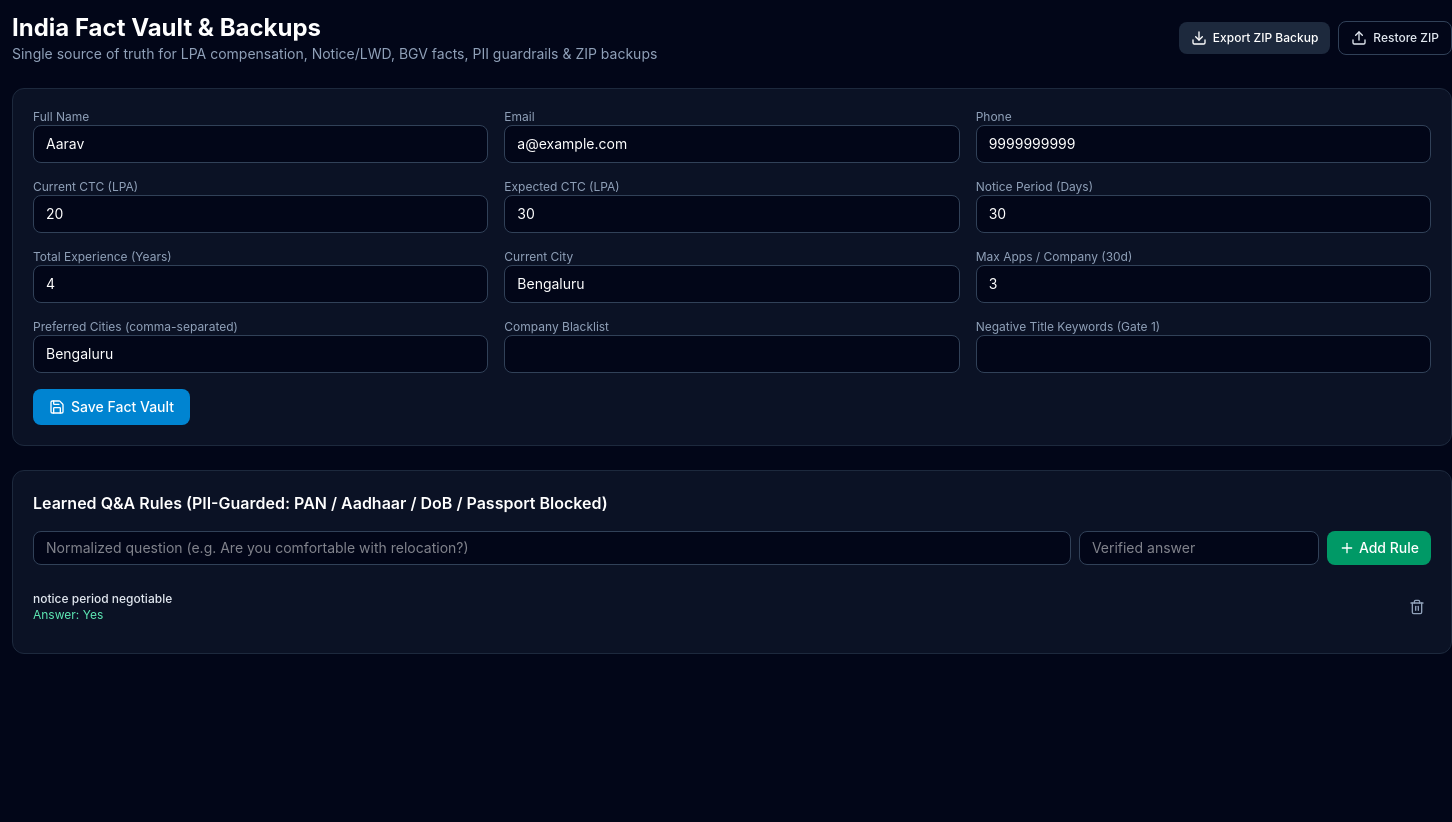
Test: Comprehensive Frontend Pages & Drawer Tests › FactVaultPage surfaces PII rejection banner and deletes Q&A rules cleanly
Later steps or results of the test are not shown.
Expected: the text "notice period negotiable" is shown, [33,591,172,607]
Type "PAN Card Number" into the field with placeholder "Normalized question".
click(552, 548); type("PAN Card Number")  # box [33,531,1071,565]
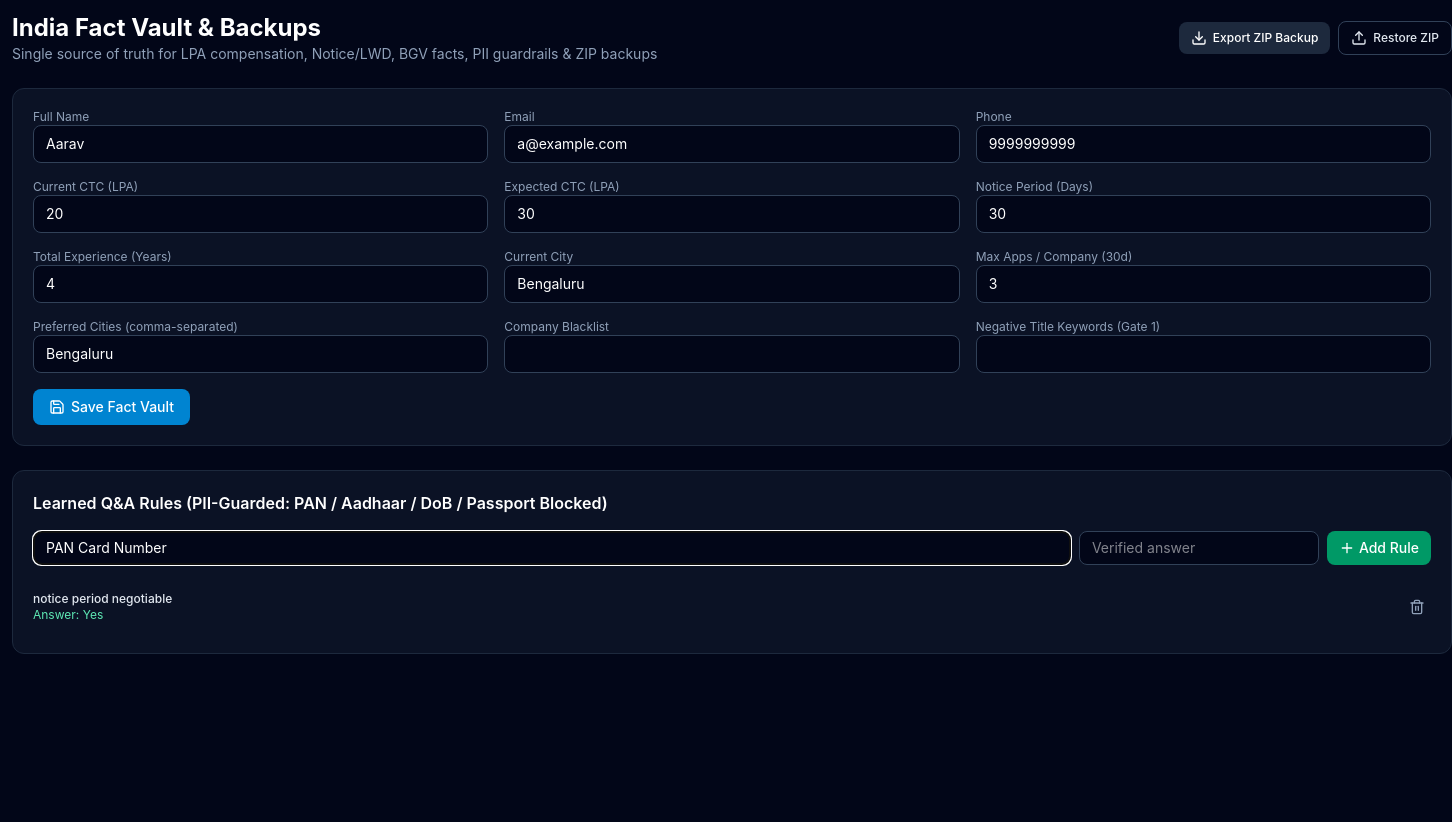
Type "ABCDE1234F" into the field with placeholder "Verified answer".
click(1199, 548); type("ABCDE1234F")  # box [1079,531,1319,565]
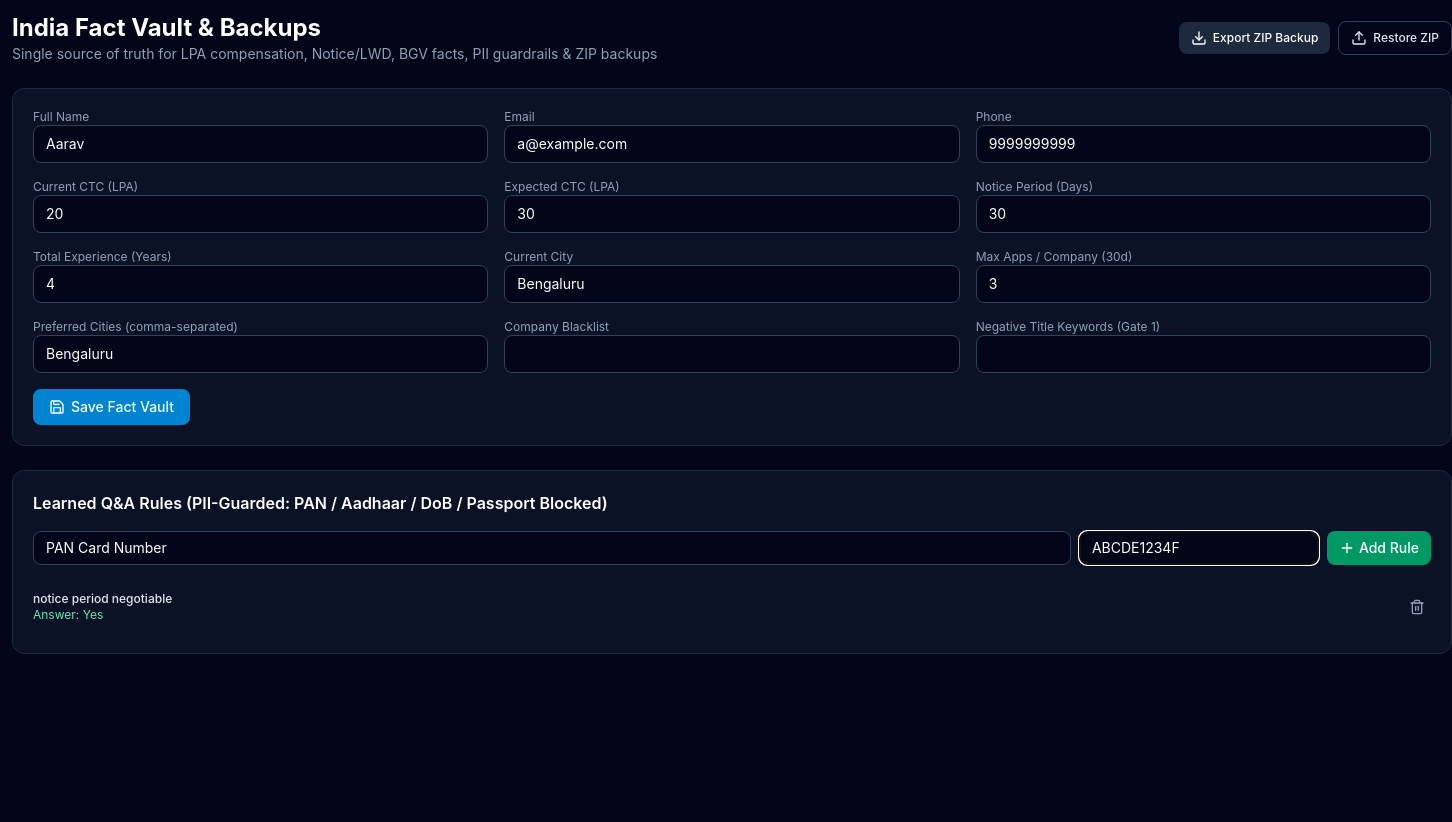
Click the button "Add Rule".
click(1379, 548)  # box [1327,531,1431,565]
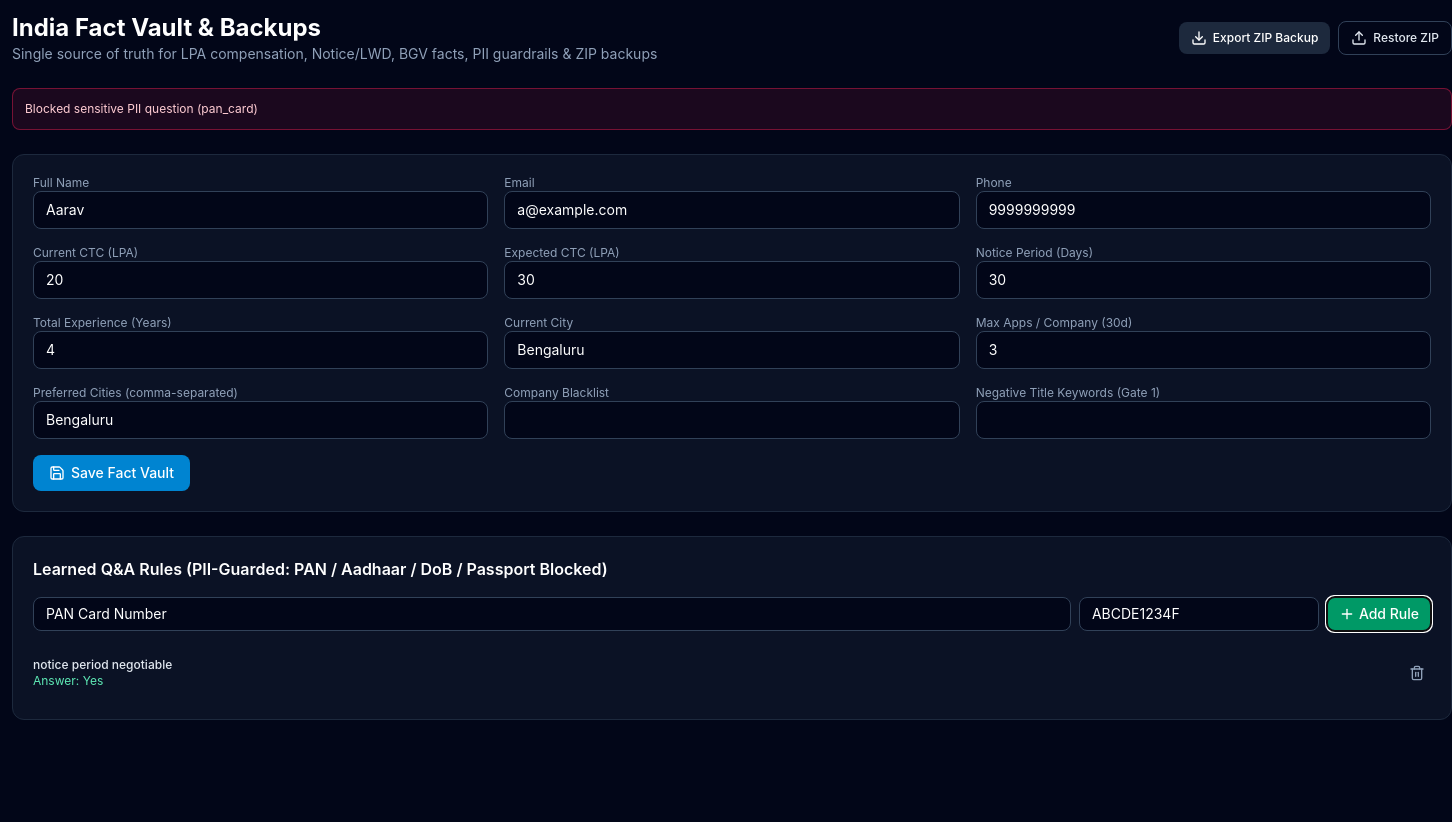
Expected: the text "Blocked sensitive PII question (pan_card)" is shown, [12,88,1451,130]
